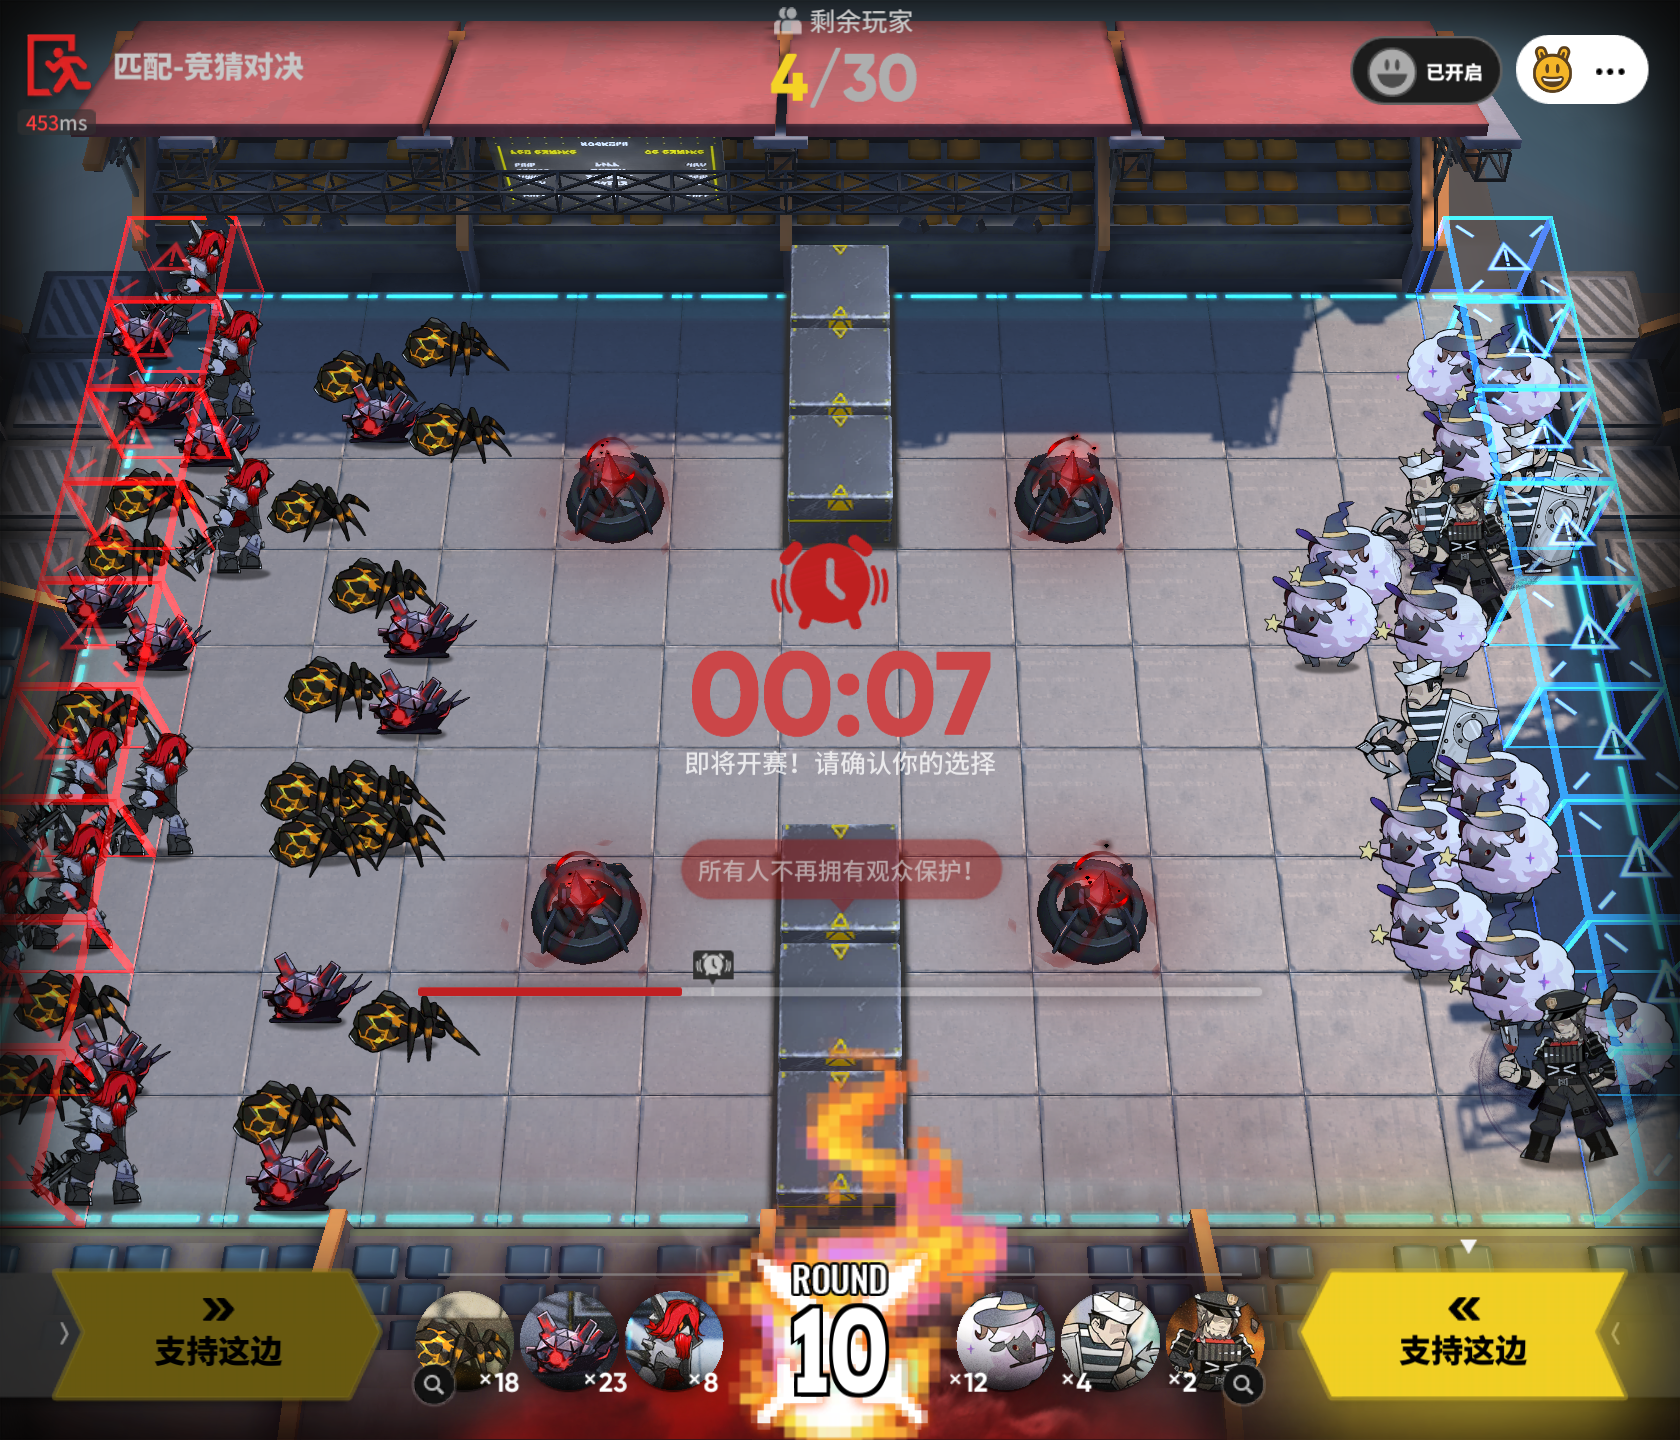易爆源石虫: (414, 1290, 526, 1396), (347, 989, 480, 1063), (231, 1080, 356, 1157), (11, 969, 130, 1043), (79, 519, 196, 587), (340, 796, 446, 869), (47, 681, 161, 746), (280, 806, 364, 887), (323, 761, 437, 821), (283, 654, 381, 721), (401, 316, 509, 377), (406, 401, 511, 463), (266, 479, 369, 541), (327, 557, 430, 619), (104, 467, 206, 529), (261, 761, 351, 819), (311, 349, 406, 403), (0, 1051, 54, 1124)
星星魔法师: (1456, 899, 1579, 1029), (1294, 501, 1417, 624), (1563, 979, 1674, 1110), (1279, 554, 1384, 680), (1387, 564, 1489, 694), (1459, 786, 1566, 909), (1359, 789, 1477, 896), (1374, 861, 1481, 976), (1421, 394, 1529, 509), (956, 1289, 1066, 1397), (1470, 320, 1577, 431), (1399, 311, 1509, 419), (1449, 727, 1563, 827)
杰斯顿·威廉姆斯: (1489, 983, 1624, 1166), (1401, 476, 1529, 619), (1161, 1290, 1269, 1401)
流鼻涕虫虫: (523, 1289, 624, 1396), (244, 1139, 361, 1211), (263, 954, 370, 1026), (363, 674, 463, 749), (66, 1024, 166, 1096), (384, 591, 471, 661), (117, 619, 211, 683), (99, 303, 186, 369), (334, 381, 429, 439), (54, 579, 149, 634), (184, 414, 266, 479), (173, 411, 266, 461), (119, 379, 210, 429)
源石的腿脚: (37, 1074, 147, 1221), (177, 449, 281, 583), (26, 824, 121, 961), (114, 724, 210, 857), (619, 1290, 733, 1397), (44, 727, 129, 853), (189, 296, 273, 413), (164, 224, 241, 327)
源石祭坛: (529, 846, 659, 973), (1039, 849, 1169, 974), (1006, 431, 1130, 546), (563, 439, 670, 554)
过气水手: (1359, 657, 1507, 811), (1484, 457, 1596, 581), (1379, 449, 1486, 554), (1056, 1287, 1161, 1390), (1503, 426, 1606, 511)
阻挡物: (773, 1061, 917, 1217), (779, 927, 906, 1069), (777, 811, 910, 943), (780, 409, 900, 546), (779, 231, 907, 329), (781, 324, 901, 417)
